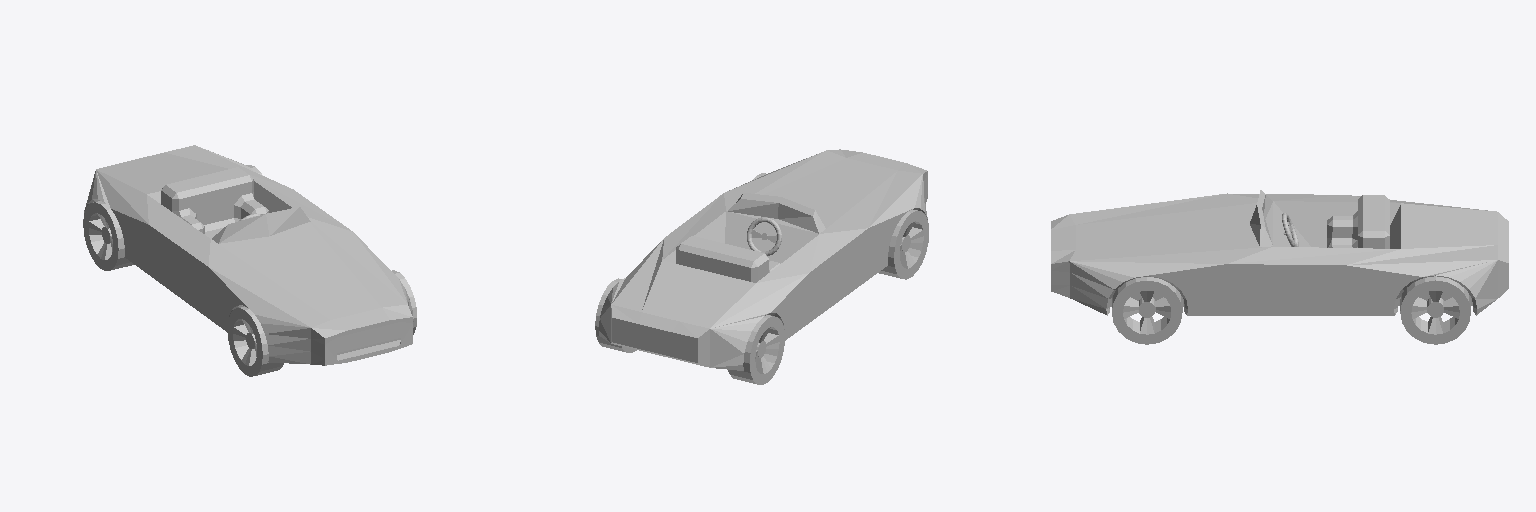
Rendered from flame.obj.
3 renders of one model, left to right at view 1: azimuth 30°, elevation 25°; view 2: azimuth 150°, elevation 25°; view 3: azimuth 270°, elevation 25°, orthographic.
Parts seen in each view (by area): view 1: car:initialShadingGroup car:polySurface9 car:polySurface1 Mesh; view 2: car:initialShadingGroup car:polySurface9 car:polySurface1 Mesh; view 3: car:initialShadingGroup car:polySurface9 car:polySurface1 Mesh.
Part boxes in pixels (bbox=[...]): car:initialShadingGroup car:polySurface9 car:polySurface1 Mesh: bbox=[83, 145, 416, 376]; car:initialShadingGroup car:polySurface9 car:polySurface1 Mesh: bbox=[595, 149, 928, 384]; car:initialShadingGroup car:polySurface9 car:polySurface1 Mesh: bbox=[1051, 190, 1508, 344].
Size of the model in its own units: 2.34 by 1.48 by 6.01.